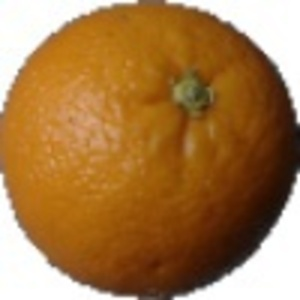laranja: (3, 1, 298, 299)
